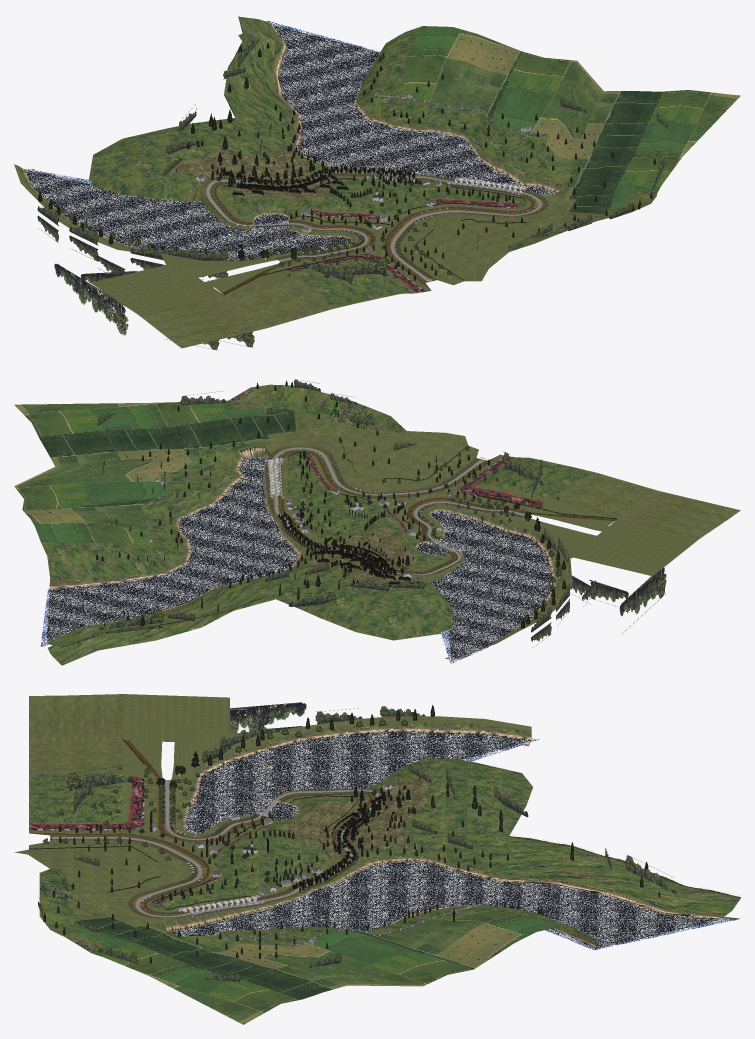
Rendered from stage-prin.glb.
The picture shows the model from 3 angles, top to bottom: view 1: azimuth 30°, elevation 25°; view 2: azimuth 150°, elevation 25°; view 3: azimuth 270°, elevation 25°; orthographic projection. The views are drawn at different scales.
Visible parts, largest first — view 1: part 5 chunk 2,-7, part 1 chunk 4,-6, part 1 chunk 6,-4, part 1 chunk -4,-1, part 1 chunk -4,-3, part 5 chunk -3,-5, part 1 chunk 3,-4, part 1 chunk -1,-5, part 1 chunk 1,-10, part 4 chunk -4,-4, part 1 chunk -3,-7, part 1 chunk 4,-2 (+36 smaller); view 2: part 5 chunk 2,-7, part 1 chunk 6,-4, part 1 chunk 4,-6, part 1 chunk -4,-3, part 1 chunk -4,-1, part 5 chunk -3,-5, part 1 chunk 3,-8, part 1 chunk 3,-4, part 1 chunk -3,-7, part 1 chunk 4,-2, part 1 chunk 3,-1, part 1 chunk -1,-7 (+40 smaller); view 3: part 5 chunk 2,-7, part 1 chunk 6,-4, part 1 chunk 4,-6, part 1 chunk -4,-1, part 1 chunk -4,-3, part 5 chunk -3,-5, part 1 chunk 1,-10, part 1 chunk -1,-5, part 1 chunk -1,-7, part 1 chunk -4,-6, part 5 chunk -3,-4, part 1 chunk 0,-7 (+39 smaller).
Boxes of the visible parts, box(x1,y1,x2,y2) form: part 5 chunk 2,-7: box(267, 20, 555, 195); part 1 chunk 4,-6: box(404, 26, 576, 135); part 1 chunk 6,-4: box(541, 61, 740, 169); part 1 chunk -4,-1: box(139, 273, 331, 348); part 1 chunk -4,-3: box(91, 253, 295, 314); part 5 chunk -3,-5: box(77, 194, 256, 254); part 1 chunk 3,-4: box(459, 111, 582, 199); part 1 chunk -1,-5: box(171, 150, 333, 200); part 1 chunk 1,-10: box(224, 16, 292, 117); part 4 chunk -4,-4: box(37, 215, 254, 350); part 1 chunk -3,-7: box(89, 138, 181, 198); part 1 chunk 4,-2: box(564, 157, 681, 214); part 5 chunk 2,-7: box(40, 457, 296, 646); part 1 chunk 6,-4: box(14, 402, 208, 485); part 1 chunk 4,-6: box(14, 472, 167, 543); part 1 chunk -4,-3: box(523, 498, 698, 576); part 1 chunk -4,-1: box(548, 472, 740, 538); part 5 chunk -3,-5: box(430, 539, 551, 618); part 1 chunk 3,-8: box(41, 542, 163, 589); part 1 chunk 3,-4: box(142, 441, 270, 521); part 1 chunk -3,-7: box(356, 587, 453, 640); part 1 chunk 4,-2: box(153, 400, 296, 449); part 1 chunk 3,-1: box(228, 384, 406, 432); part 1 chunk -1,-7: box(269, 567, 386, 631); part 5 chunk 2,-7: box(169, 861, 733, 950); part 1 chunk 6,-4: box(146, 939, 421, 1024); part 1 chunk 4,-6: box(289, 912, 561, 986); part 1 chunk -4,-1: box(29, 694, 123, 774); part 1 chunk -4,-3: box(123, 694, 254, 779); part 5 chunk -3,-5: box(220, 732, 407, 791); part 1 chunk 1,-10: box(504, 837, 740, 915); part 1 chunk -1,-5: box(278, 776, 430, 856); part 1 chunk -1,-7: box(405, 774, 532, 836); part 1 chunk -4,-6: box(250, 716, 531, 751); part 5 chunk -3,-4: box(205, 743, 354, 790); part 1 chunk 0,-7: box(360, 827, 513, 875).
Bounding box in the file's own units: 3945 × 409 × 3437.
Materials: 94 (92 with a texture image).
